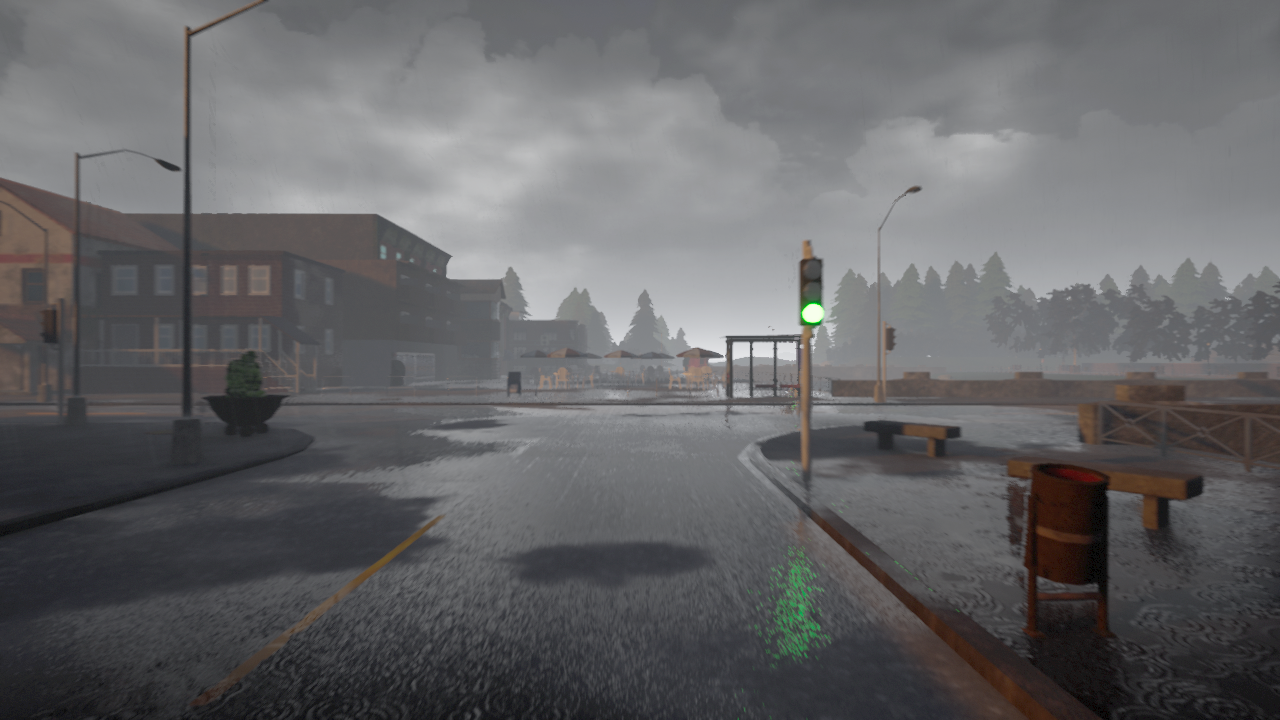green: (798, 254, 827, 326)
